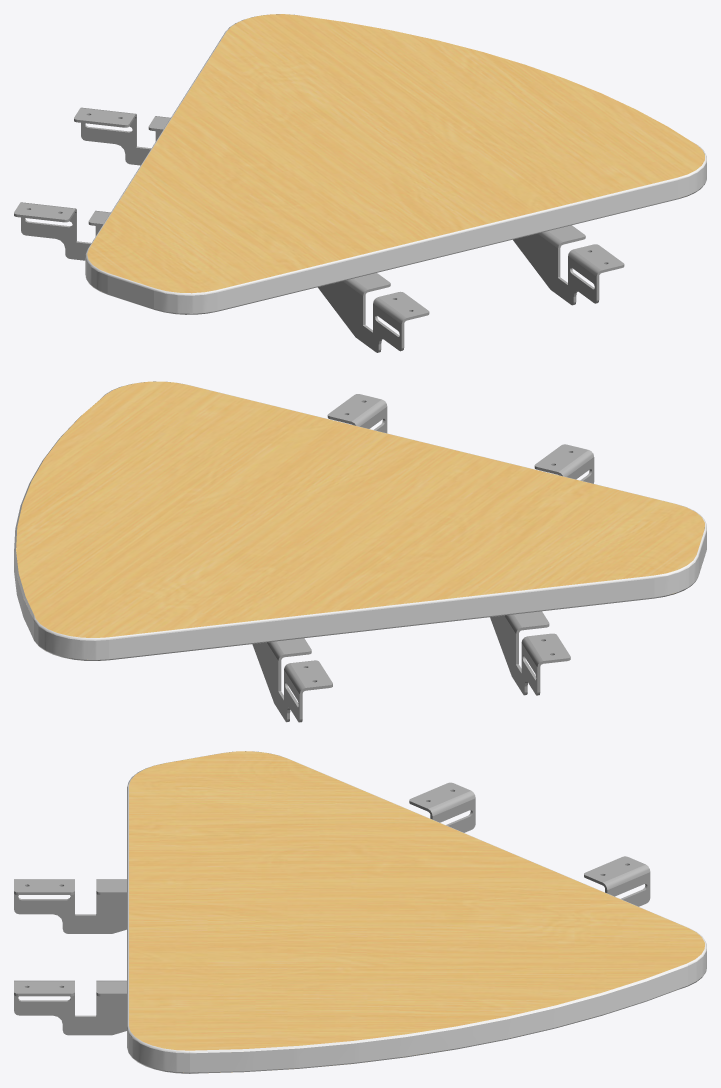
File: HSU020000_135.glb
The picture shows the model from 3 angles, top to bottom: view 1: azimuth 30°, elevation 25°; view 2: azimuth 150°, elevation 25°; view 3: azimuth 270°, elevation 25°; orthographic projection. The views are drawn at different scales.
Visible parts, largest first — view 1: 4 (×2), 16, 13, 15, 14; view 2: 4 (×2), 15, 14, 13, 16; view 3: 4 (×2), 16, 13, 14, 15.
Part boxes in pixels (<box>): 4 (×2): <box>85,14,706,314</box>; 16: <box>513,225,624,305</box>; 13: <box>318,273,429,352</box>; 15: <box>14,202,110,260</box>; 14: <box>74,107,170,165</box>; 4 (×2): <box>14,381,706,660</box>; 15: <box>490,611,570,695</box>; 14: <box>252,638,332,722</box>; 13: <box>534,444,594,483</box>; 16: <box>327,394,387,433</box>; 4 (×2): <box>127,751,706,1073</box>; 16: <box>14,980,126,1035</box>; 13: <box>14,879,126,933</box>; 14: <box>584,856,650,906</box>; 15: <box>409,782,475,832</box>.
Bounding box in the file's own units: 0.7004 × 0.085 × 0.6813.
3 materials, 1 textured.
